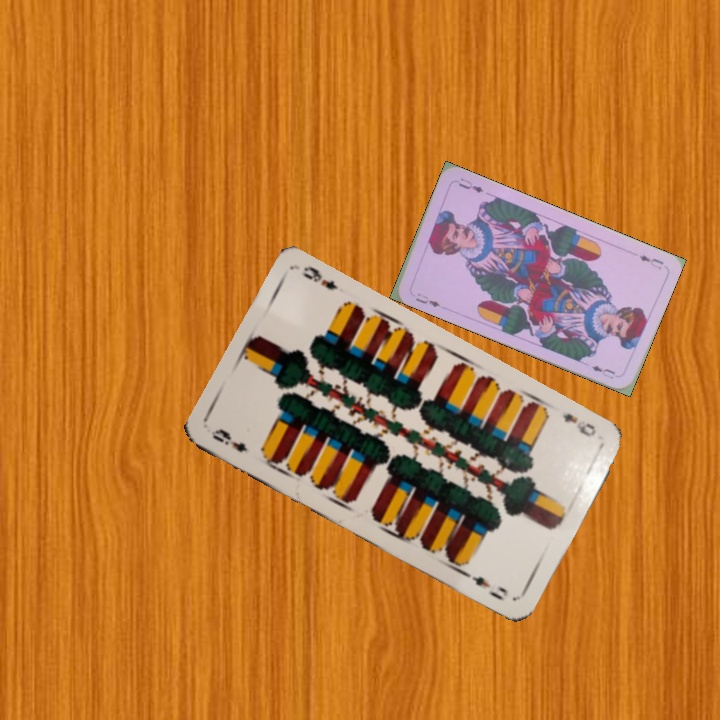E9: (207, 424, 250, 455), (559, 409, 599, 440)
EU: (407, 288, 443, 310), (635, 250, 666, 272)
